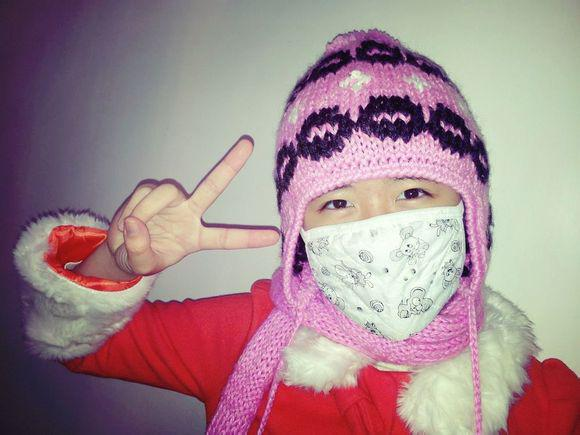OK: (301, 151, 476, 334)
